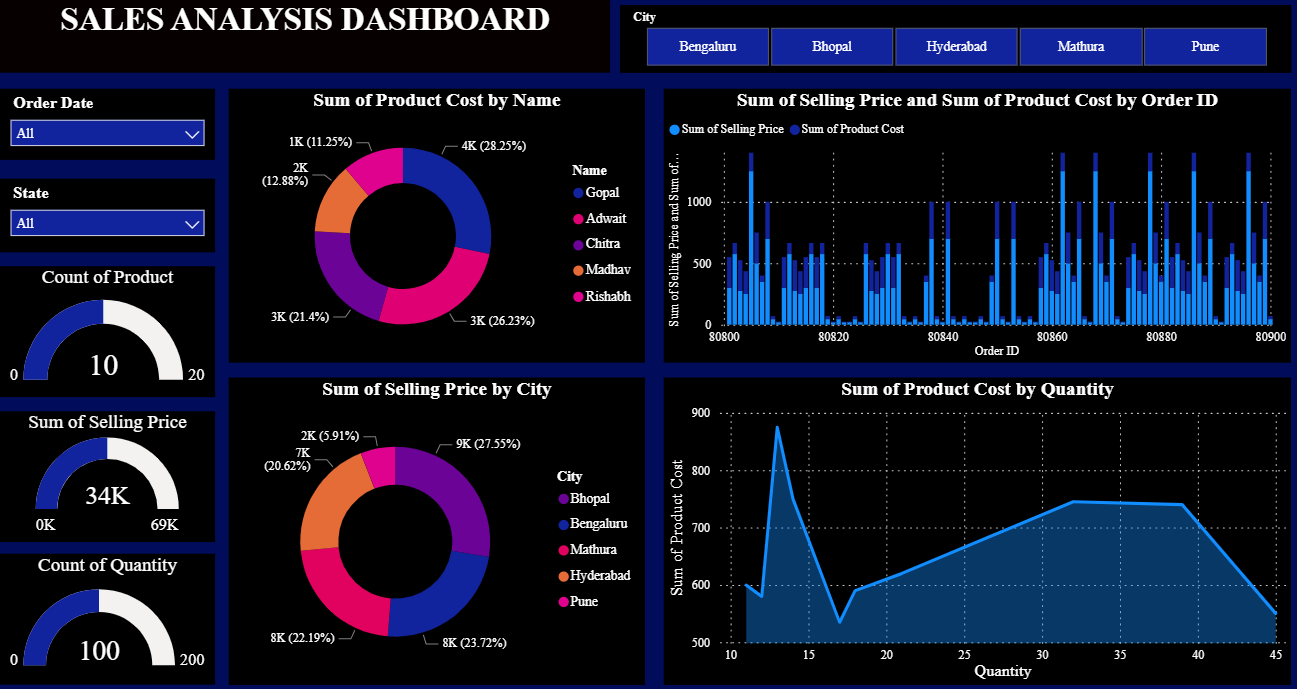

The dashboard page shown, as its layout file describes it:
{"tool":"powerbi","page":{"name":"Page 1","canvas":[1280,720],"ordinal":0},"visuals":[{"type":"stackedAreaChart","fields":{"Category":["Orders.Quantity"],"Y":["Sum(Orders.Product Cost)"]},"box":[649.3,374.2,613.9,300.8],"z":0},{"type":"donutChart","fields":{"Y":["Sum(Orders.Selling Price)"],"Category":["Customers.City"]},"box":[223.8,374.2,407.2,300.8],"z":1000},{"type":"gauge","fields":{"Y":["Count(Orders.Product)"]},"box":[0,265.4,210.3,128.4],"z":2000},{"type":"gauge","fields":{"Y":["CountNonNull(Orders.Quantity)"]},"box":[0,546.6,210.3,128.4],"z":3000},{"type":"gauge","fields":{"Y":["Sum(Orders.Selling Price)"]},"box":[0,407.2,210.3,128.4],"z":4000},{"type":"textbox","box":[0,0,596.7,75.8],"z":5000},{"type":"slicer","fields":{"Values":["Customers.City"]},"box":[606.5,9.8,656.7,66],"z":6000},{"type":"donutChart","fields":{"Category":["Customers.Name"],"Y":["Sum(Orders.Product Cost)"]},"box":[223.8,91.7,407.2,267.8],"z":7000},{"type":"lineStackedColumnComboChart","fields":{"Y":["Sum(Orders.Selling Price)","Sum(Orders.Product Cost)"],"Category":["Orders.Order ID"]},"box":[649.3,91.7,613.9,267.8],"z":8000},{"type":"slicer","fields":{"Values":["Customers.Order Date"]},"box":[0,91.7,210.3,69.7],"z":9000},{"type":"slicer","fields":{"Values":["Customers.State"]},"box":[0,179.8,210.3,72.1],"z":10000}]}

Visuals, with their boxes on the page's 1280x720 design canvas (x1, y1, x2, y2). These are canvas units, not pixel positions in the 1297x689 screenshot, which may show the page scaled, cropped or inside an application window:
stackedAreaChart - Orders.Quantity x Sum(Orders.Product Cost): crop(649, 374, 1263, 675)
donutChart - Sum(Orders.Selling Price) x Customers.City: crop(224, 374, 631, 675)
gauge - Count(Orders.Product): crop(0, 265, 210, 394)
gauge - CountNonNull(Orders.Quantity): crop(0, 547, 210, 675)
gauge - Sum(Orders.Selling Price): crop(0, 407, 210, 536)
textbox: crop(0, 0, 597, 76)
slicer - Customers.City: crop(606, 10, 1263, 76)
donutChart - Customers.Name x Sum(Orders.Product Cost): crop(224, 92, 631, 360)
lineStackedColumnComboChart - Sum(Orders.Selling Price) x Sum(Orders.Product Cost): crop(649, 92, 1263, 360)
slicer - Customers.Order Date: crop(0, 92, 210, 161)
slicer - Customers.State: crop(0, 180, 210, 252)
